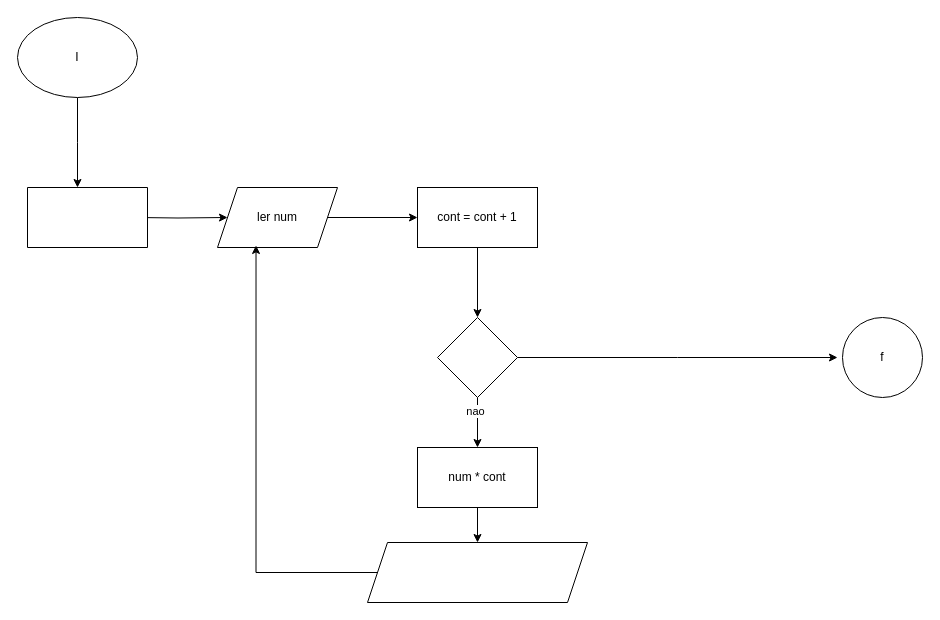
The diagram is 940 pixels wide and 620 high, and some of its shapes have lost their labels. Each missing label, with the centre of its shape:
cont > 10: point 477,357
cont=0: point 87,217
escrever "resultado =" (num*cont): point 477,572
